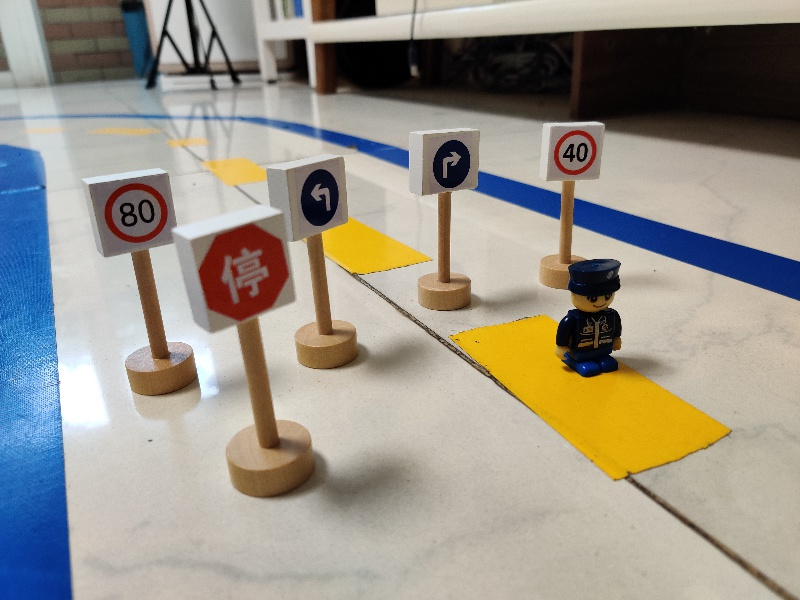limit_40: (539, 116, 606, 185)
limit_80: (77, 169, 181, 259)
person: (553, 256, 627, 379)
stop: (172, 205, 297, 335)
turn_left: (279, 153, 352, 238)
turn_right: (403, 121, 483, 200)
